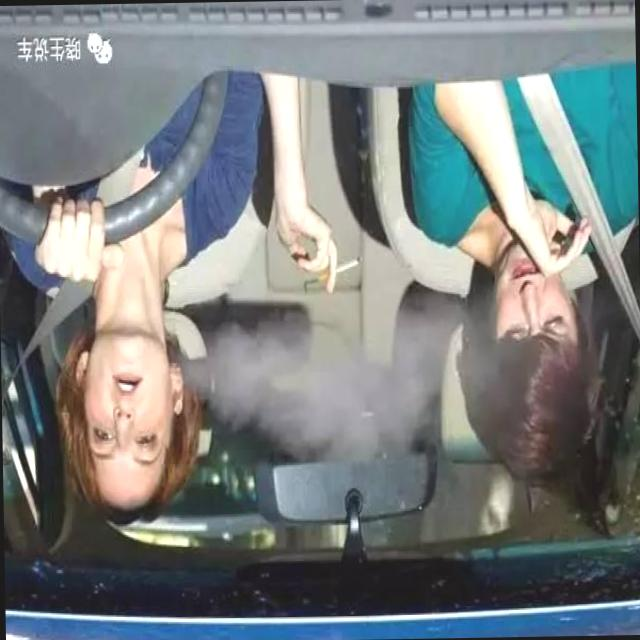cigarette: (296, 239, 374, 298)
